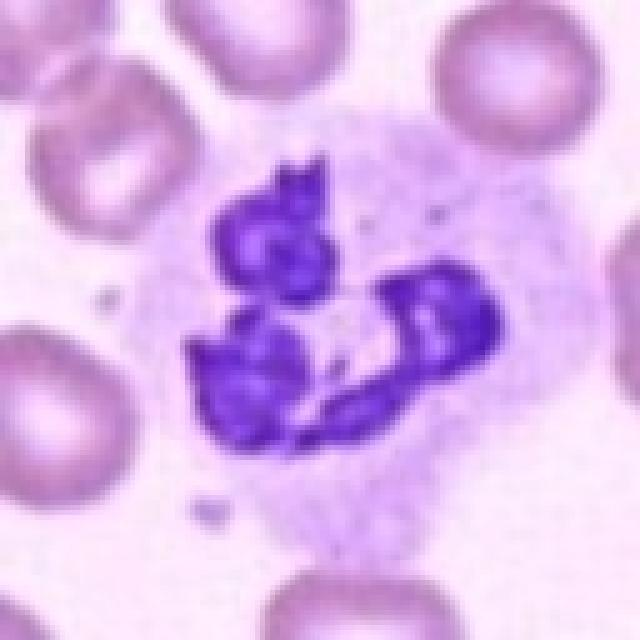neutro: (105, 132, 540, 552)
